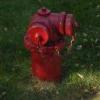Hydrant: (18, 0, 76, 85)
